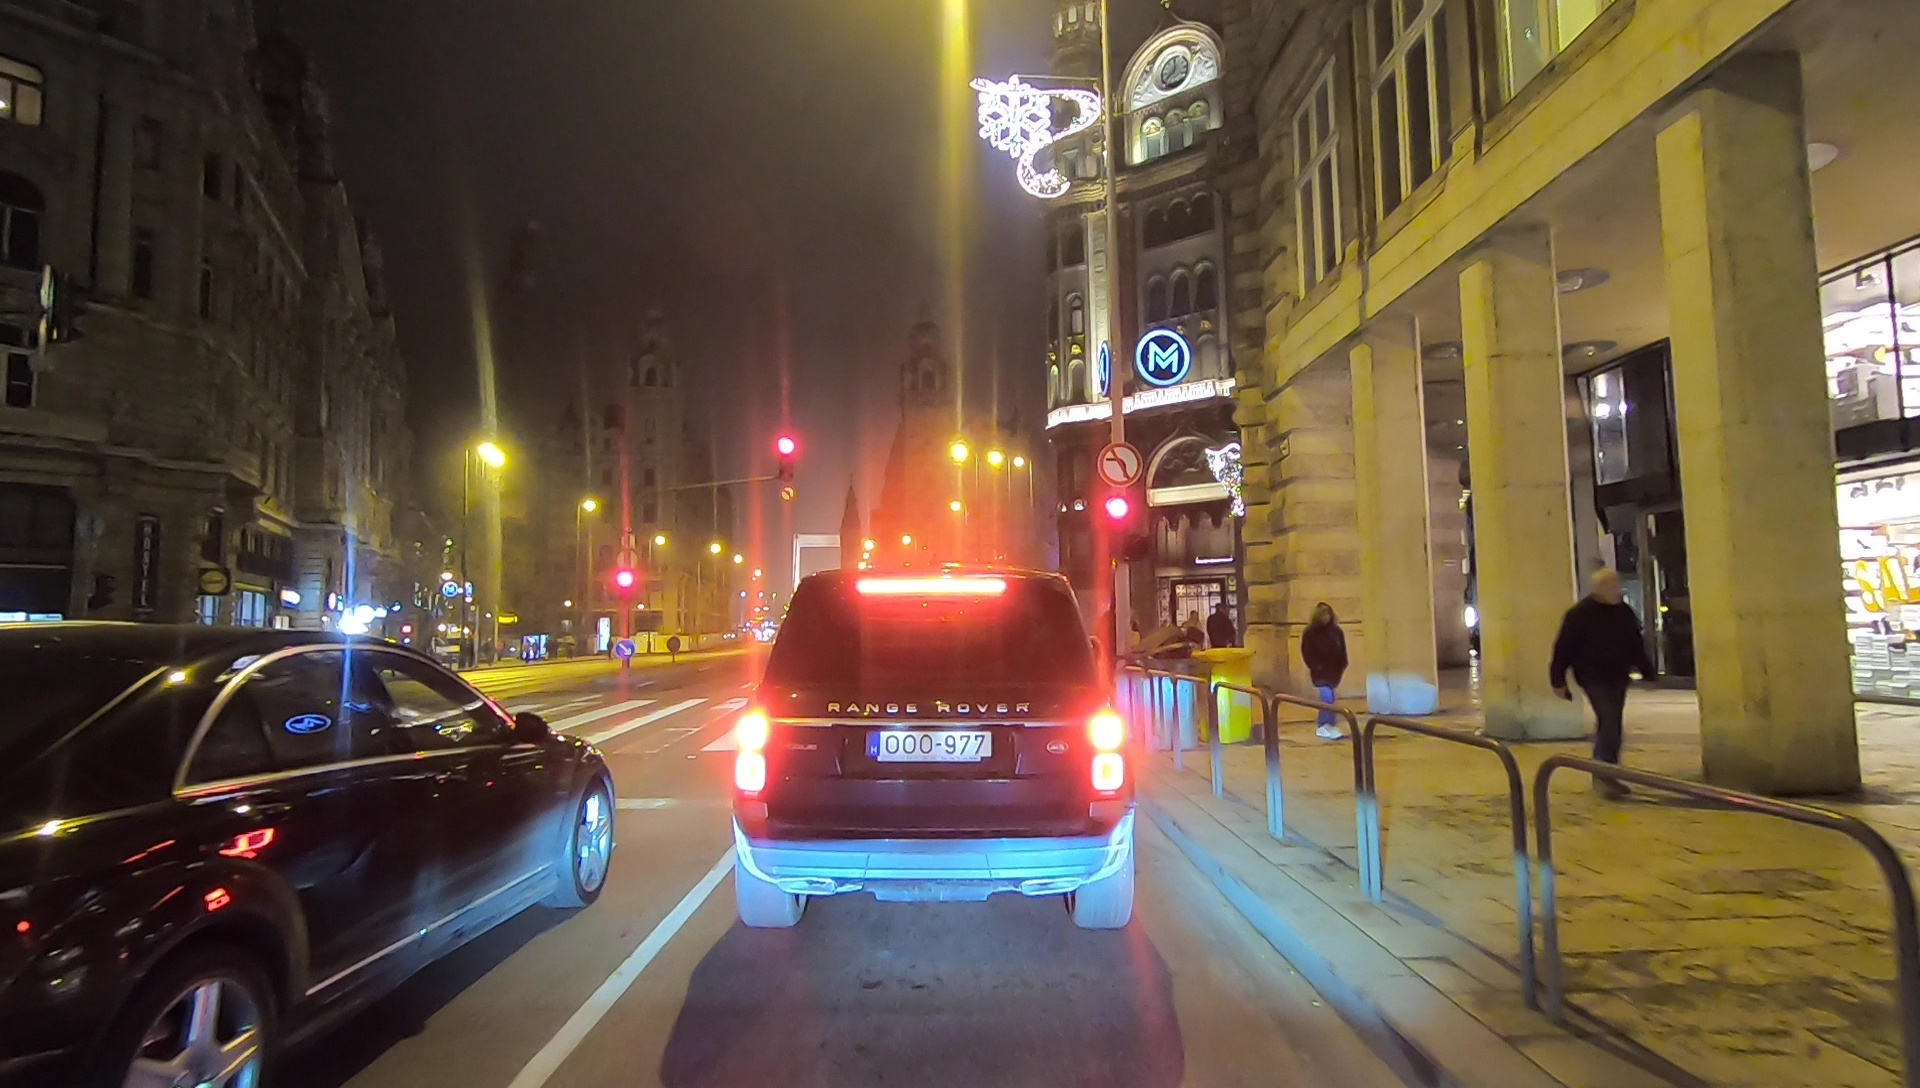person: (1552, 567, 1652, 793), (1301, 602, 1349, 739), (1179, 609, 1205, 679), (1209, 605, 1234, 673)
